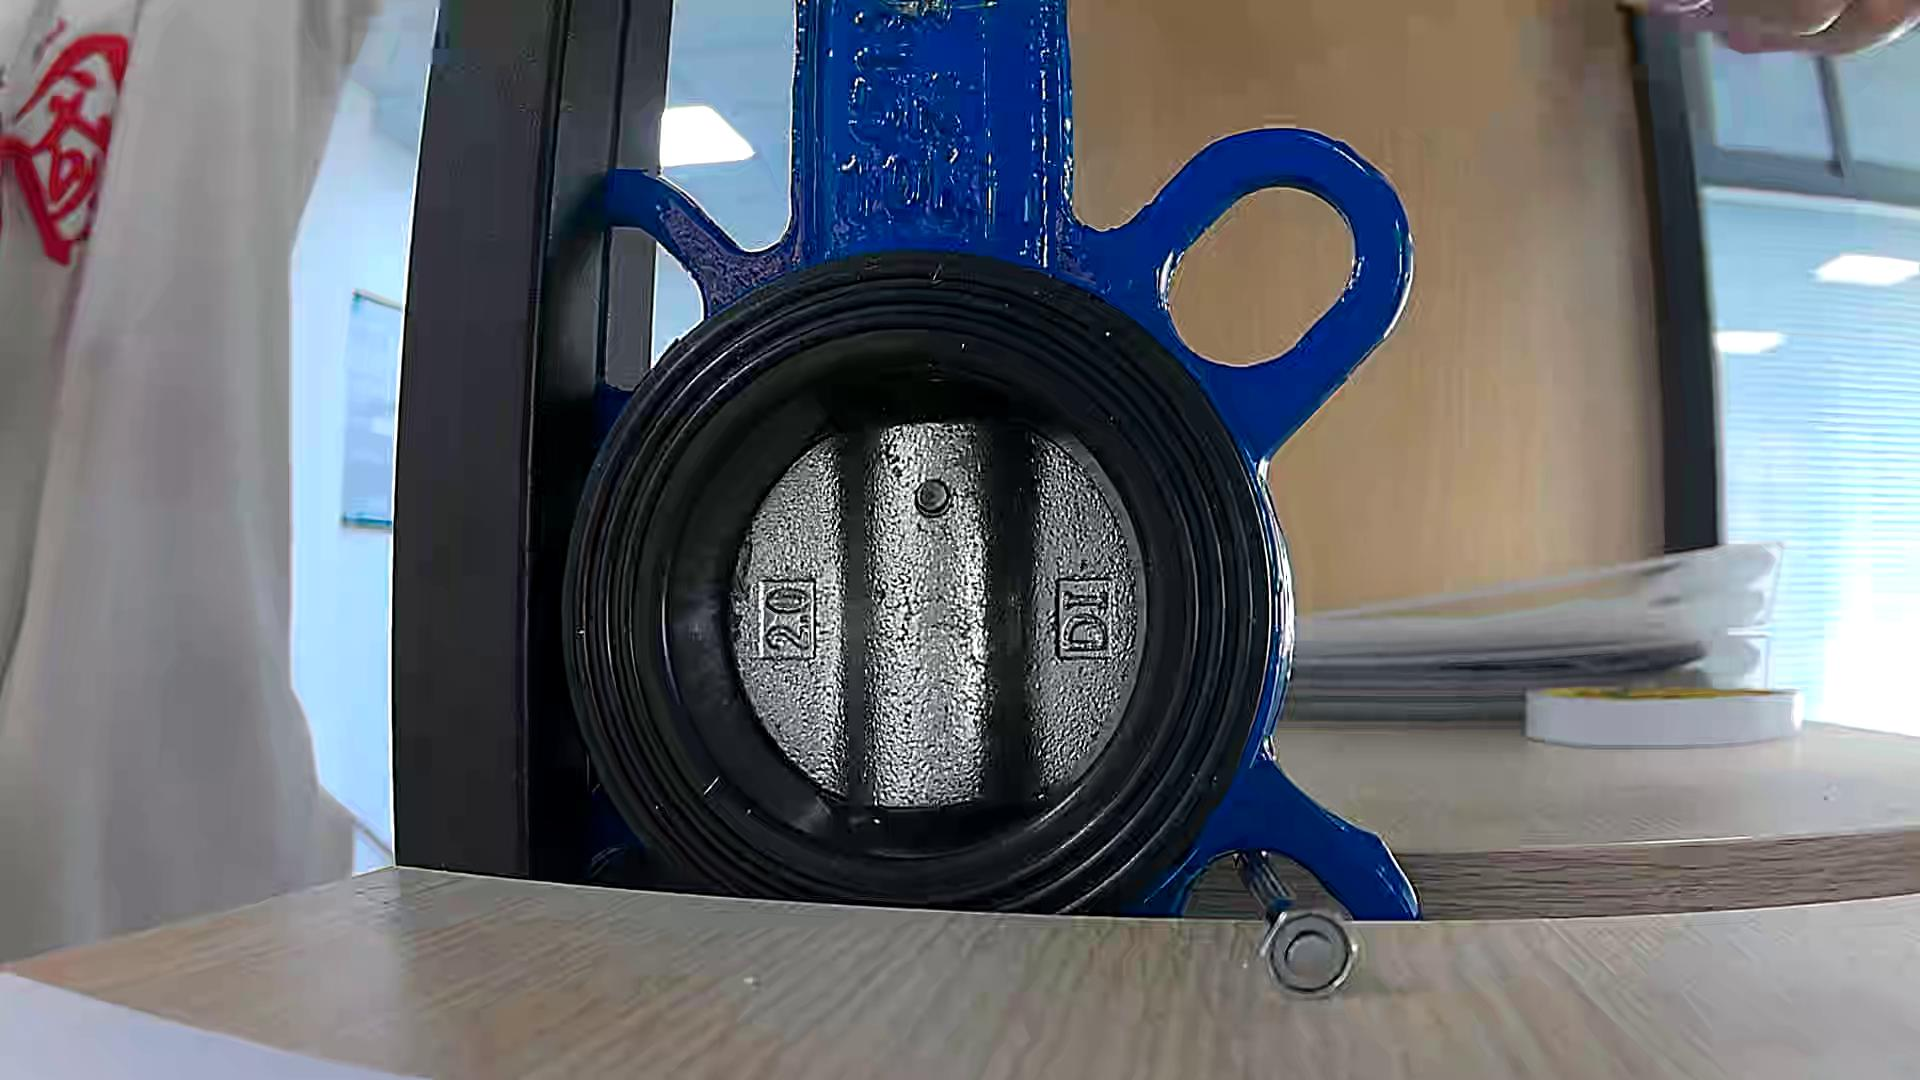valve: (731, 420, 1144, 810)
